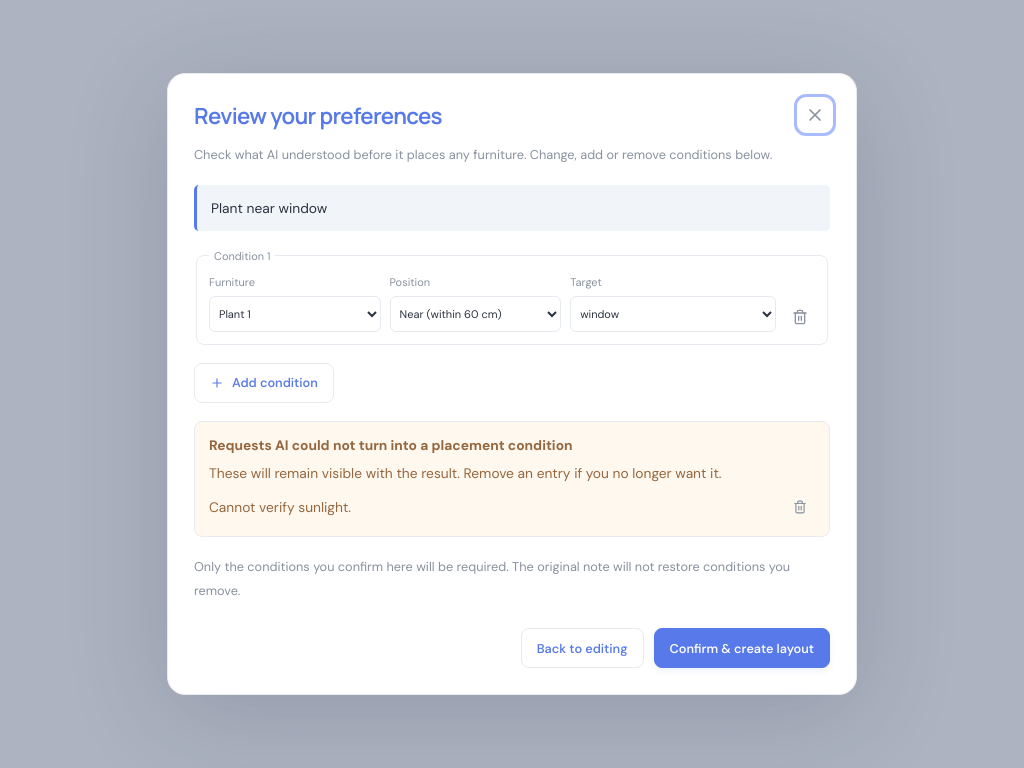
Test: preference review › supports removing and adding conditions
Click the button named "Remove condition 1": (800, 317) [785,302,815,332]
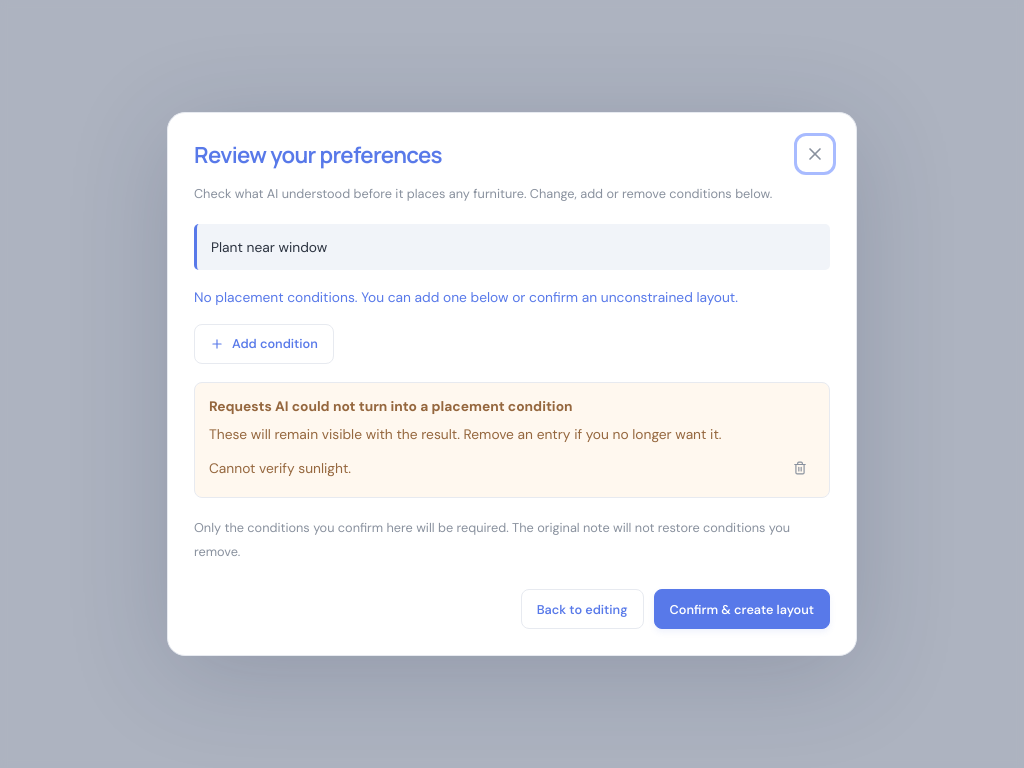
Now the dropdown labelled "Condition 1 target" is gone
Click the button "Add condition": (264, 344) [194,324,334,364]
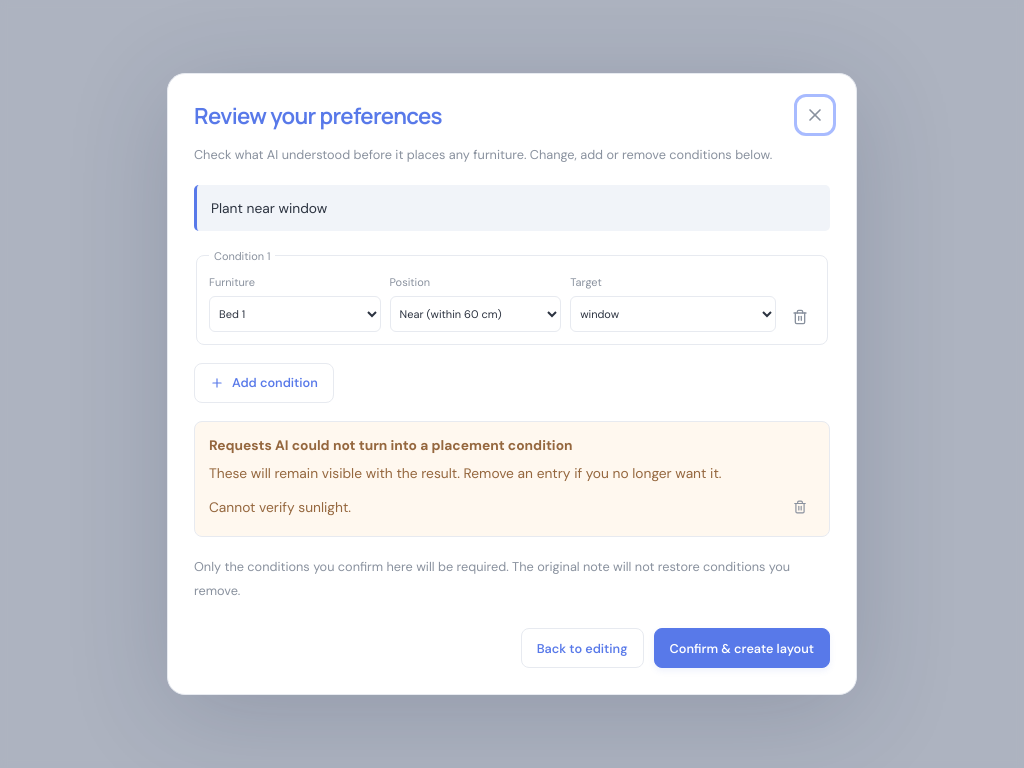
Now the dropdown named "Condition 1 target" is shown, box [570,296,776,332]
